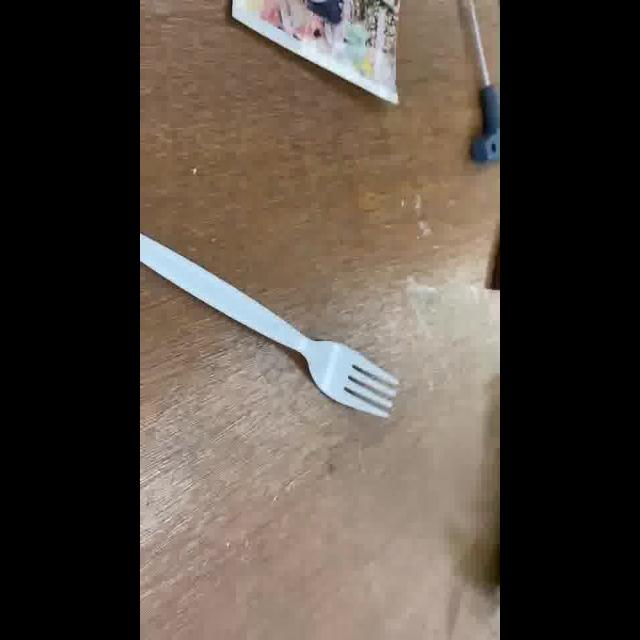plastic_cultery: (140, 226, 404, 424)
